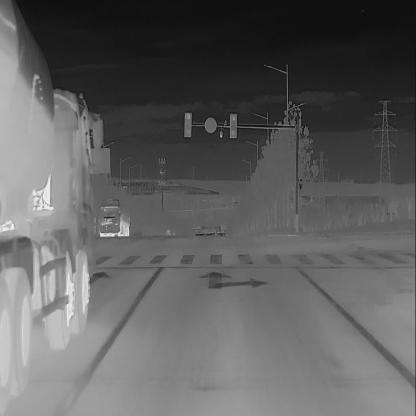truck: (0, 0, 109, 399), (98, 196, 132, 239)
